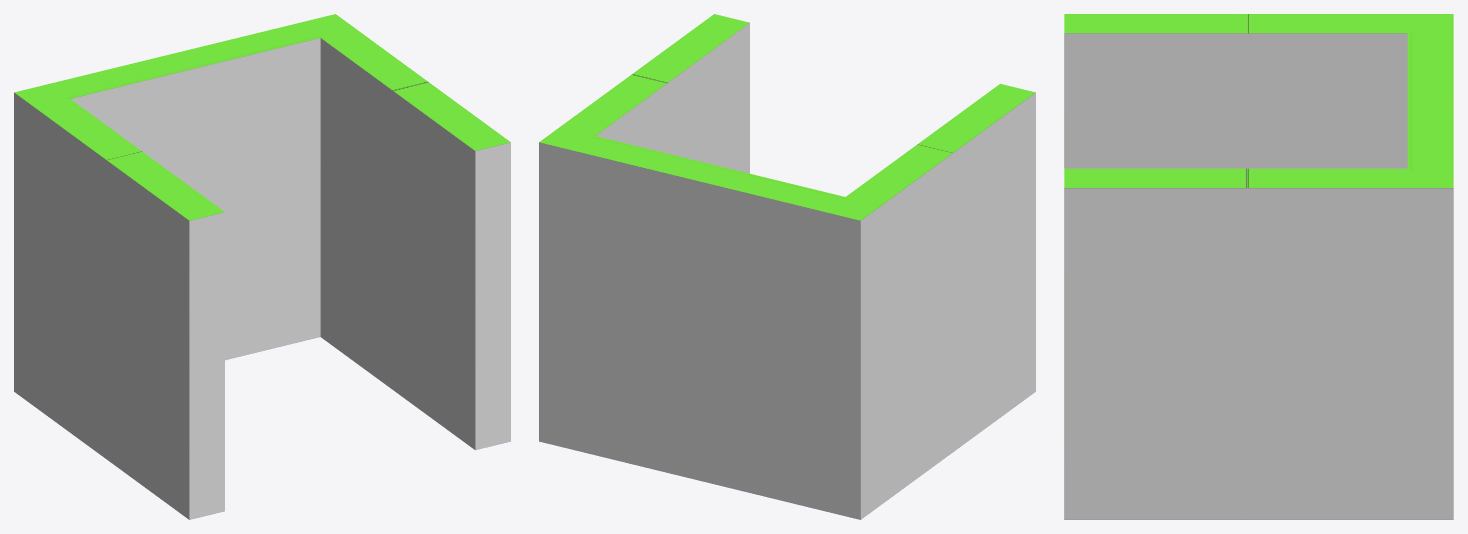
Rendered from MK_MK_Wall_DeadEnd_A.fbx.
The picture shows the model from 3 angles, left to right: view 1: azimuth 30°, elevation 25°; view 2: azimuth 150°, elevation 25°; view 3: azimuth 270°, elevation 25°; orthographic projection. The views are drawn at different scales.
Visible parts, largest first — view 1: MK_Wall_DeadEnd_A; view 2: MK_Wall_DeadEnd_A; view 3: MK_Wall_DeadEnd_A.
Boxes of the visible parts, <box> form: MK_Wall_DeadEnd_A: <box>14,14,510,519</box>; MK_Wall_DeadEnd_A: <box>539,14,1035,519</box>; MK_Wall_DeadEnd_A: <box>1064,14,1453,519</box>.
Bounding box in the file's own units: 202 × 180 × 191.
1 material, 1 textured.
